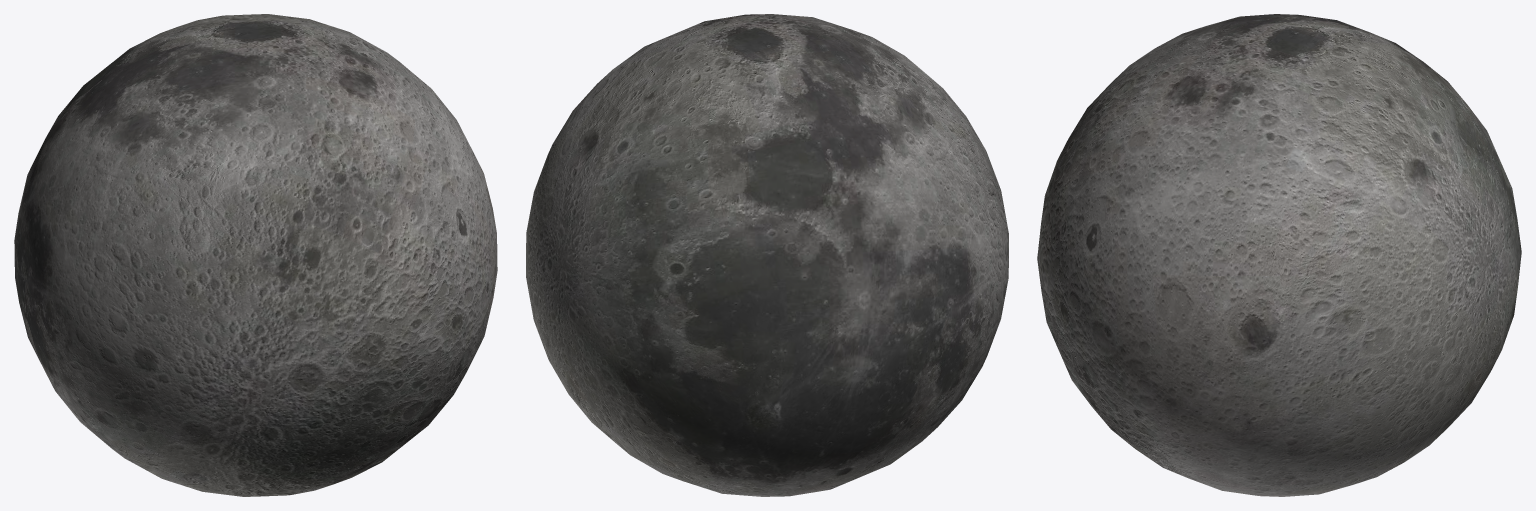
File: moon-mobile-webp.glb
3 views of the same model, side by side, from view 1: azimuth 30°, elevation 25°; view 2: azimuth 150°, elevation 25°; view 3: azimuth 270°, elevation 25° (orthographic).
Parts seen in each view (by area): view 1: Moon_Optimized; view 2: Moon_Optimized; view 3: Moon_Optimized.
Part boxes in pixels (x1,y1,x2,y2): Moon_Optimized: (14,14,497,496); Moon_Optimized: (526,14,1008,496); Moon_Optimized: (1037,14,1521,496).
Size of the model in its own units: 3.48 by 3.48 by 3.49.
1 material, 1 textured.
